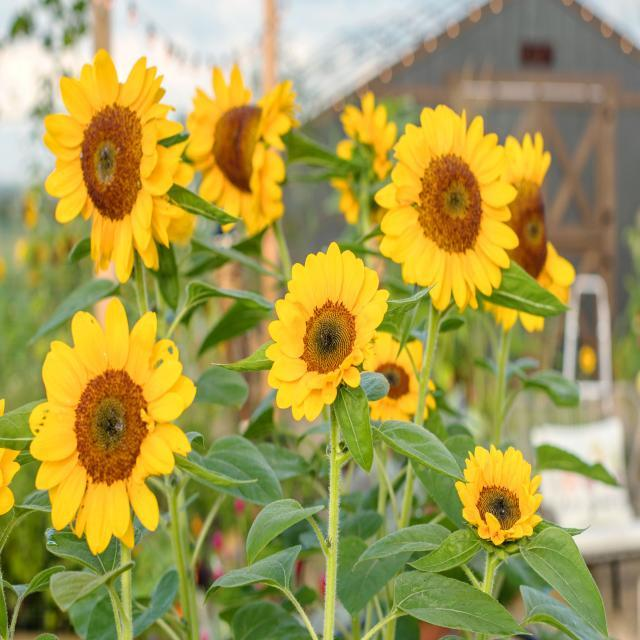sunflower: (28, 296, 196, 556), (42, 48, 194, 284), (374, 102, 520, 314), (265, 241, 389, 422), (185, 62, 300, 236), (483, 130, 576, 333), (454, 443, 542, 546), (330, 90, 397, 224), (363, 331, 436, 423), (0, 398, 21, 516)
